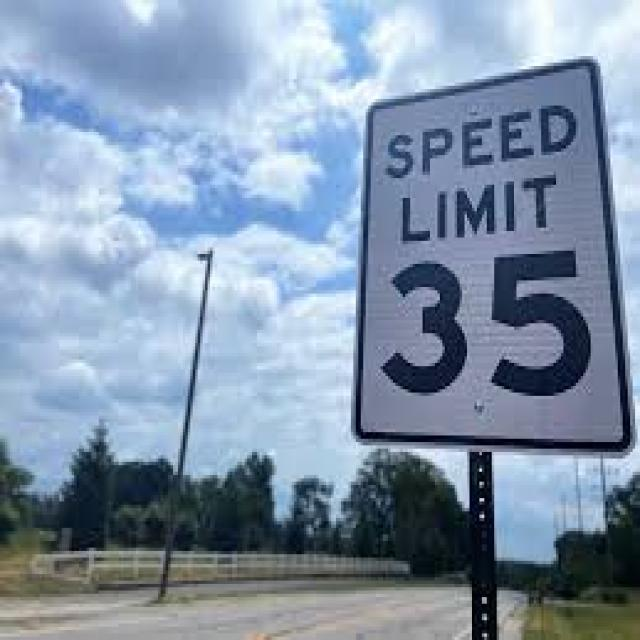speedLimit35: (347, 52, 639, 464)
